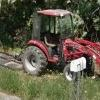Tractor: (19, 5, 100, 76)
